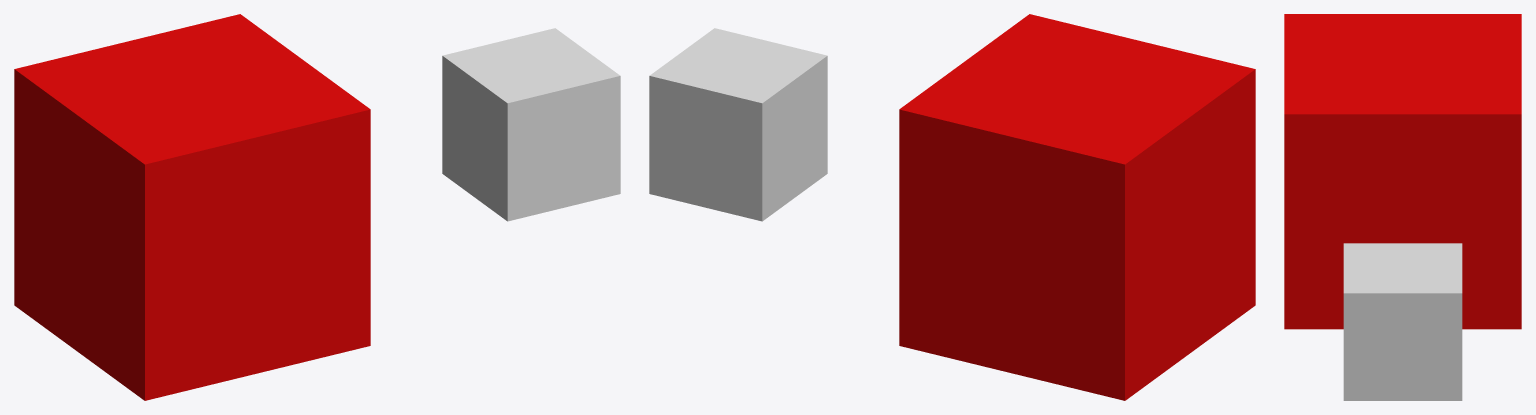
3 views of the same model, side by side, from view 1: azimuth 30°, elevation 25°; view 2: azimuth 150°, elevation 25°; view 3: azimuth 270°, elevation 25° (orthographic). The views are drawn at different scales.
Parts seen in each view (by area): view 1: Mesh, Occluder; view 2: Mesh, Occluder; view 3: Mesh, Occluder.
Part boxes in pixels (left/top/right/bottom): Mesh: left=14, top=14, right=370, bottom=400; Occluder: left=442, top=28, right=620, bottom=221; Mesh: left=899, top=14, right=1255, bottom=400; Occluder: left=649, top=28, right=827, bottom=221; Mesh: left=1284, top=14, right=1521, bottom=329; Occluder: left=1343, top=243, right=1462, bottom=400.
Bounding box in the file's own units: 2.25 × 1 × 1.
